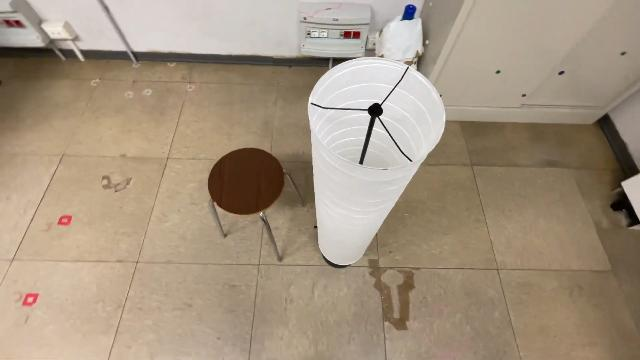Lamp: (303, 55, 452, 273)
Stool: (198, 141, 308, 268)
